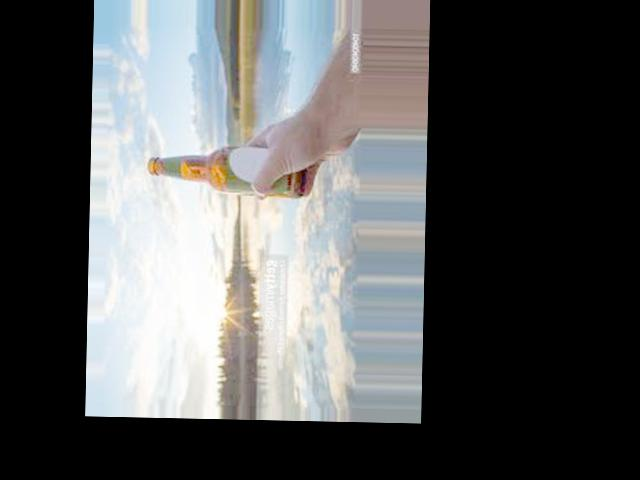beer: (147, 143, 304, 200)
